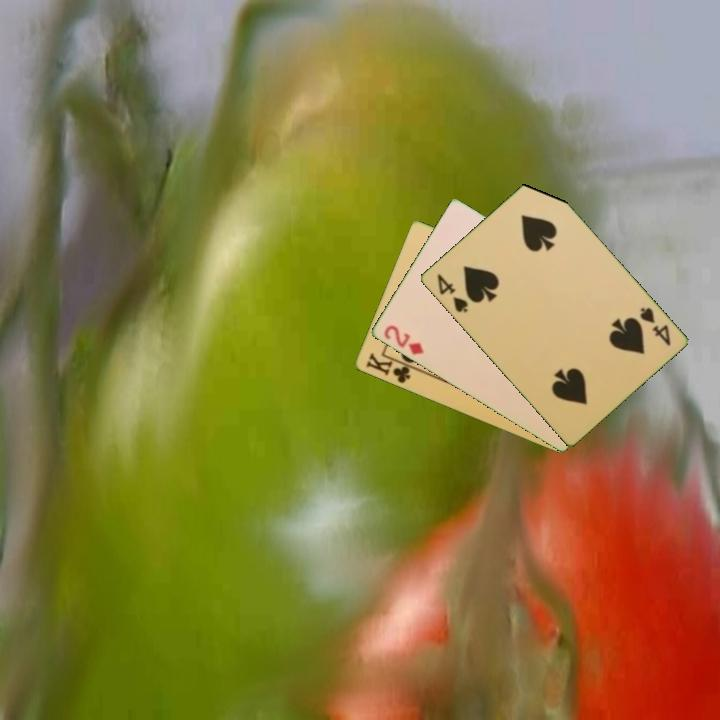2d: (380, 322, 426, 358)
4s: (433, 270, 470, 316), (636, 303, 673, 349)
Kc: (362, 349, 418, 386)
